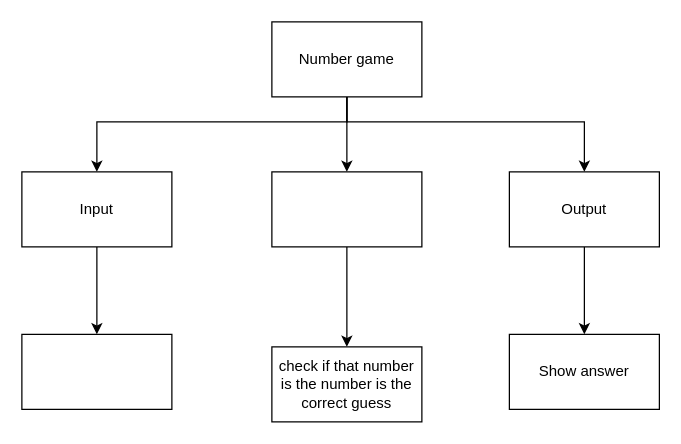
This 681x444 diagram has some shape labels left out. Here are the shapes that lost their labels. From the top down, the centre of each, then its label:
At (346,209): "Process".
At (96,371): "Get random number from 0-9 from user".
